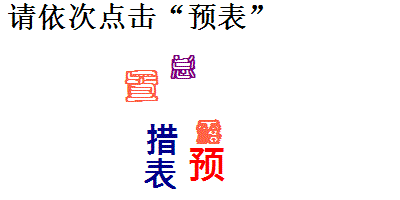result: (187, 1, 248, 31)
text: (187, 146, 226, 183), (121, 69, 161, 104), (143, 156, 179, 192), (145, 122, 178, 159), (168, 52, 197, 81), (193, 118, 223, 146)
